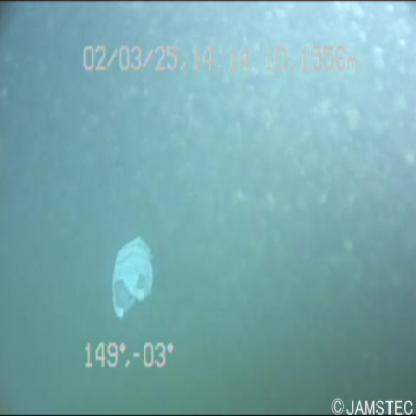Rác: (99, 220, 158, 328)
